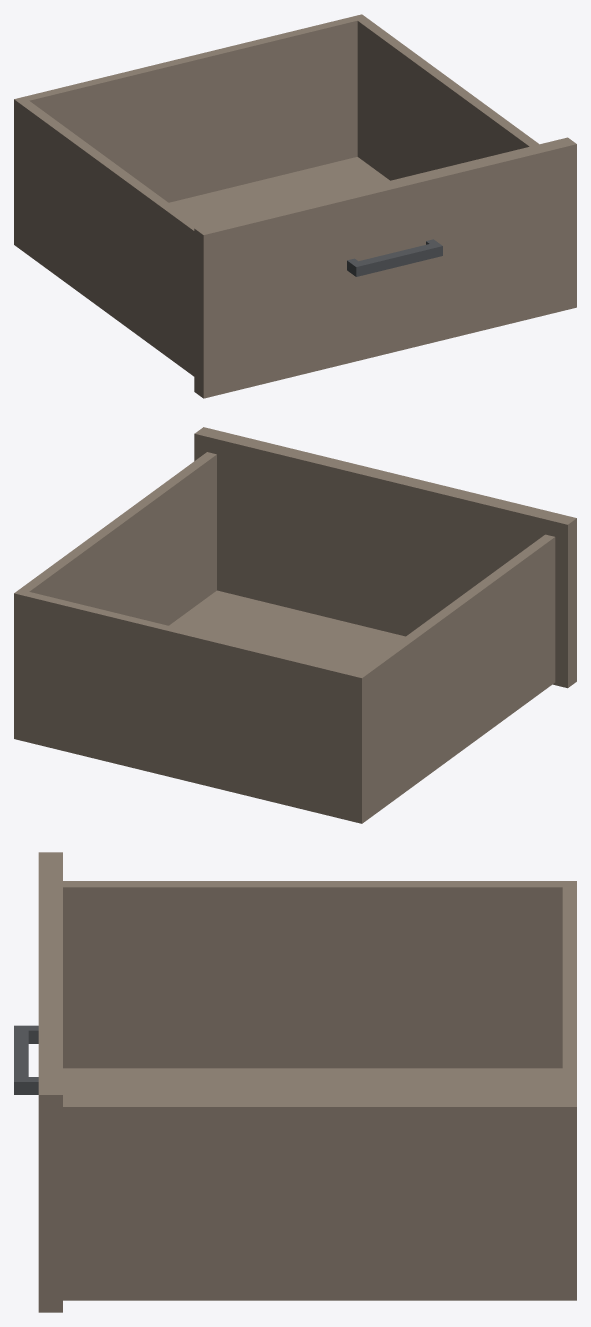
Rendered from Door1_C5_05.fbx.
3 renders of one model, top to bottom at view 1: azimuth 30°, elevation 25°; view 2: azimuth 150°, elevation 25°; view 3: azimuth 270°, elevation 25°, orthographic. The views are drawn at different scales.
Parts seen in each view (by area): view 1: Door1_C5_05; view 2: Door1_C5_05; view 3: Door1_C5_05.
Boxes of the visible parts, bbox=[...] form: Door1_C5_05: bbox=[14, 14, 576, 398]; Door1_C5_05: bbox=[14, 427, 576, 823]; Door1_C5_05: bbox=[14, 852, 576, 1312].
Size of the model in its own units: 59 by 24.68 by 57.89.
